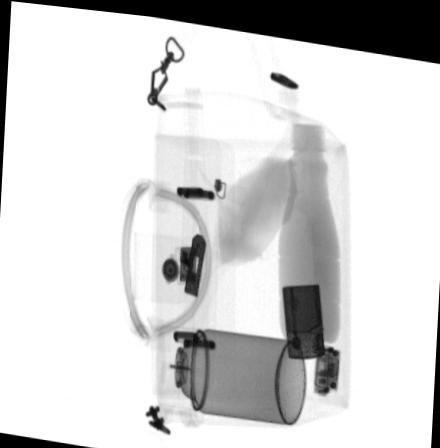Lighter: (281, 276, 324, 353)
Sprayer: (150, 319, 305, 418)
